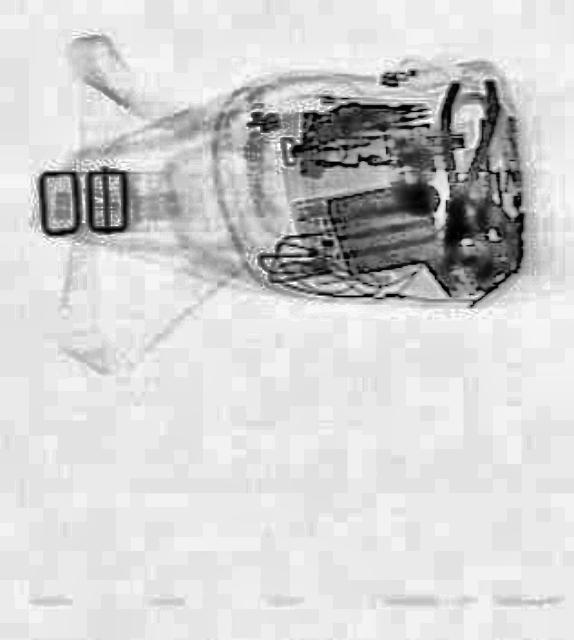Pliers: (416, 69, 502, 255)
